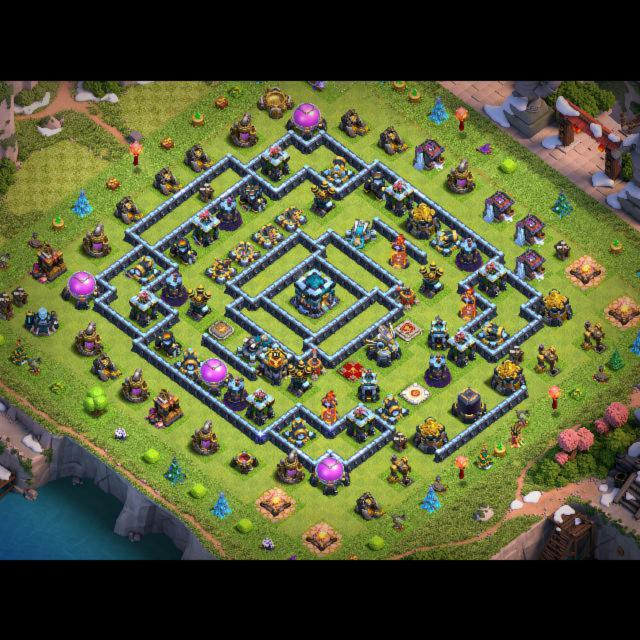AD: (286, 359, 312, 397), (310, 178, 336, 216), (418, 260, 444, 298), (186, 283, 212, 321)
AirSweeper: (302, 348, 326, 381), (394, 284, 420, 310)
BombTower: (428, 315, 449, 350), (358, 368, 379, 402)
Canon: (375, 394, 409, 424), (282, 417, 316, 447), (320, 155, 354, 185), (173, 347, 205, 378), (475, 320, 509, 349), (126, 255, 160, 284), (429, 227, 462, 255)
ClanCastle: (257, 340, 294, 384)
Eagle: (365, 321, 402, 367)
Inferno: (389, 234, 410, 268), (458, 288, 479, 321), (319, 391, 339, 425)
KingPad: (392, 318, 422, 340)
Mortar: (363, 170, 392, 200), (154, 329, 183, 358), (239, 184, 268, 213), (169, 236, 198, 264)
QueenPad: (338, 359, 369, 382)
RcPad: (209, 320, 234, 338)
Scattershot: (237, 333, 272, 365), (344, 218, 376, 249)
TH13: (293, 265, 335, 318)
WardenPad: (402, 383, 429, 404)
WizzTower: (223, 376, 249, 410), (425, 352, 450, 386), (216, 195, 241, 229), (456, 236, 481, 270), (161, 271, 185, 305)
Xbow: (204, 256, 238, 284), (274, 205, 307, 232), (251, 223, 284, 250), (227, 240, 261, 266)
